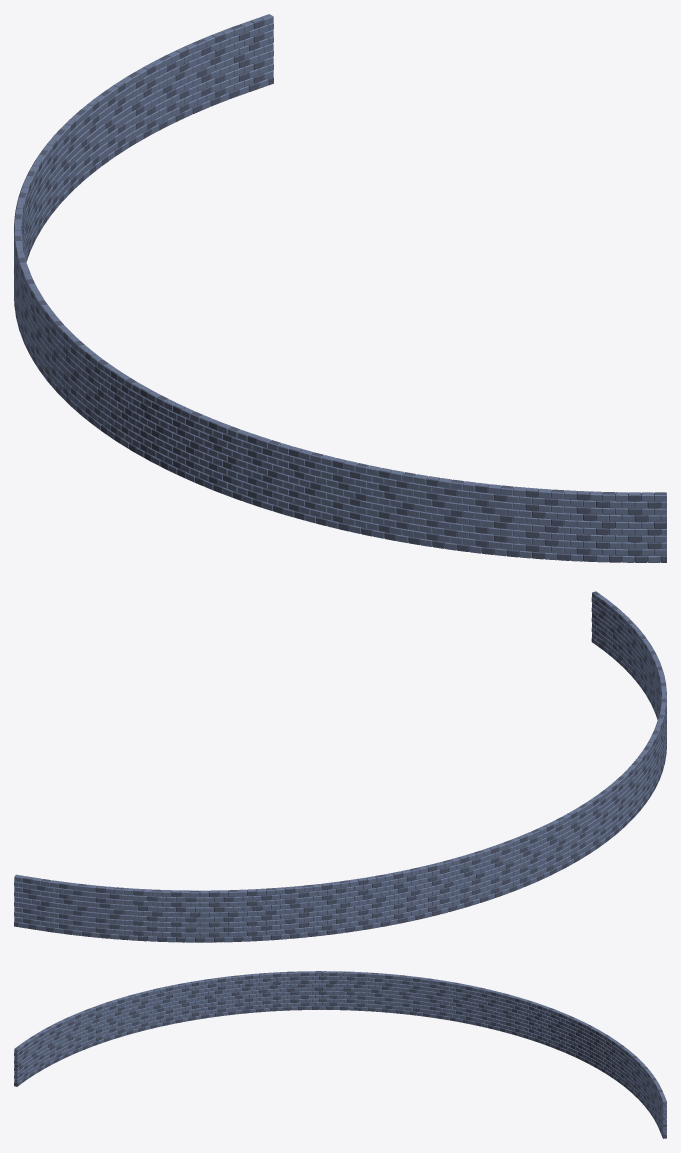
The model's file is lakeveil_curvedwall.fbx.
3 views of the same model, one above another, from view 1: azimuth 30°, elevation 25°; view 2: azimuth 150°, elevation 25°; view 3: azimuth 270°, elevation 25° (orthographic). The views are drawn at different scales.
Visible parts, largest first — view 1: brick wall.171; view 2: brick wall.171; view 3: brick wall.171.
Part boxes in pixels (bbox=[...]): brick wall.171: bbox=[14, 14, 666, 562]; brick wall.171: bbox=[14, 591, 666, 942]; brick wall.171: bbox=[14, 971, 666, 1138].
Size of the model in its own units: 2293 by 306 by 4846.
